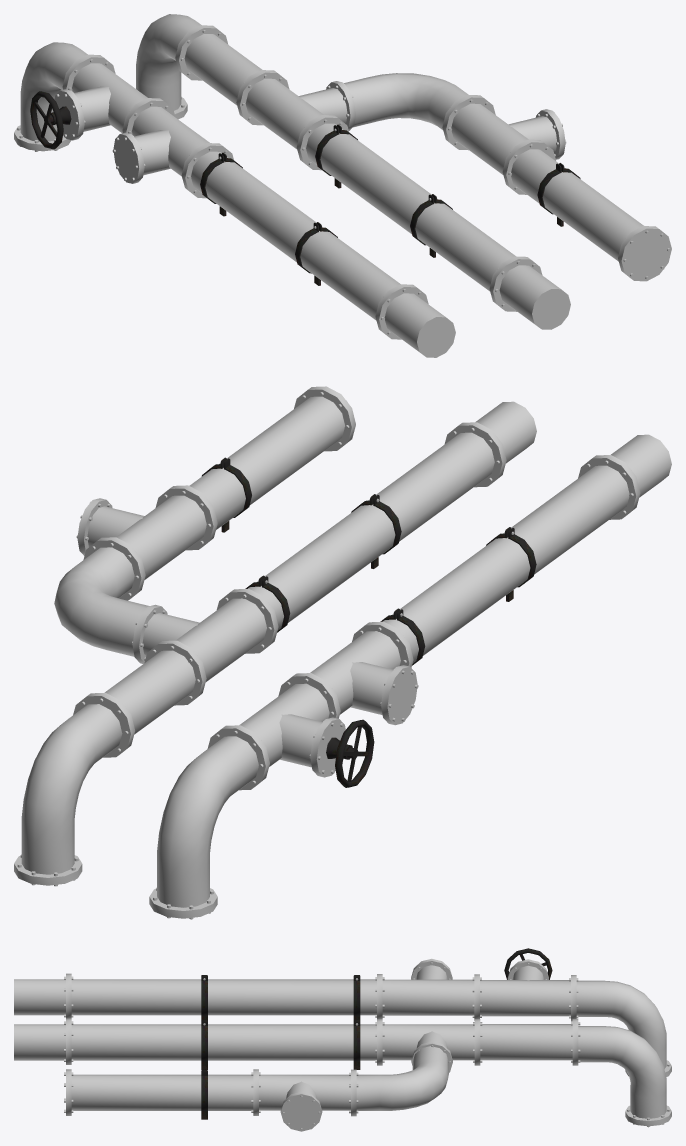
The model's file is pipe_wall_LOD0.fbx.
3 views of the same model, one above another, from view 1: azimuth 30°, elevation 25°; view 2: azimuth 150°, elevation 25°; view 3: azimuth 270°, elevation 25° (orthographic). The views are drawn at different scales.
Visible parts, largest first — view 1: Mesh Object; view 2: Mesh Object; view 3: Mesh Object.
Boxes of the visible parts, bbox=[...] form: Mesh Object: bbox=[14, 14, 671, 357]; Mesh Object: bbox=[14, 386, 671, 919]; Mesh Object: bbox=[14, 948, 671, 1131].
Bounding box in the file's own units: 9.44 × 2.94 × 18.13.
